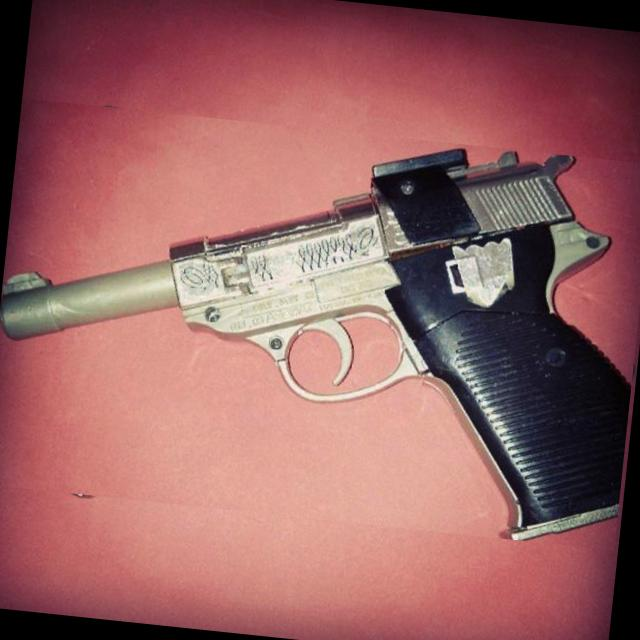Gun: (0, 148, 631, 539)
